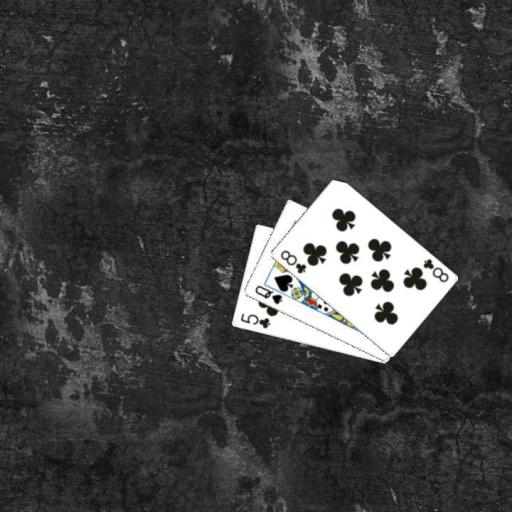5C: (237, 310, 271, 330)
8C: (420, 255, 450, 284), (277, 247, 308, 275)
QS: (252, 282, 284, 306)
